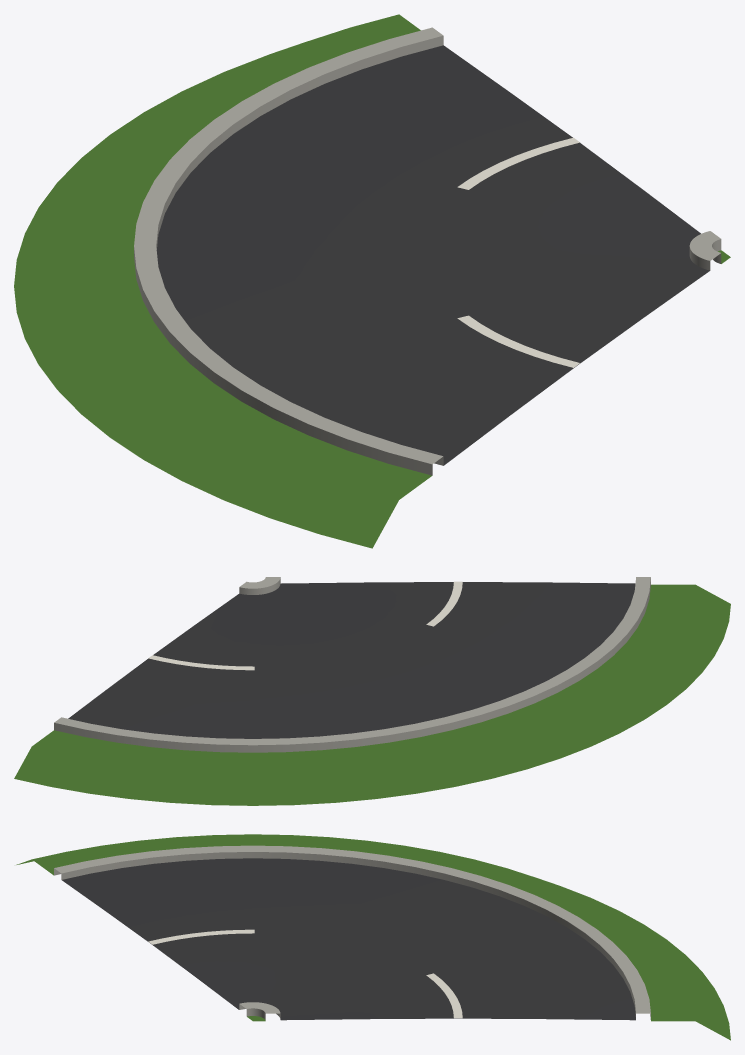
File: road_bend_60_center.glb
3 views of the same model, one above another, from view 1: azimuth 30°, elevation 25°; view 2: azimuth 150°, elevation 25°; view 3: azimuth 270°, elevation 25° (orthographic). The views are drawn at different scales.
Parts seen in each view (by area): view 1: road_bend_60_center_lod0; view 2: road_bend_60_center_lod0; view 3: road_bend_60_center_lod0.
Part boxes in pixels (x1,y1,x2,y2): road_bend_60_center_lod0: (14,14,730,548); road_bend_60_center_lod0: (14,577,730,805); road_bend_60_center_lod0: (16,834,730,1040).
Size of what is drawn, in the model's own units: 8.06 by 0.5 by 12.1.
